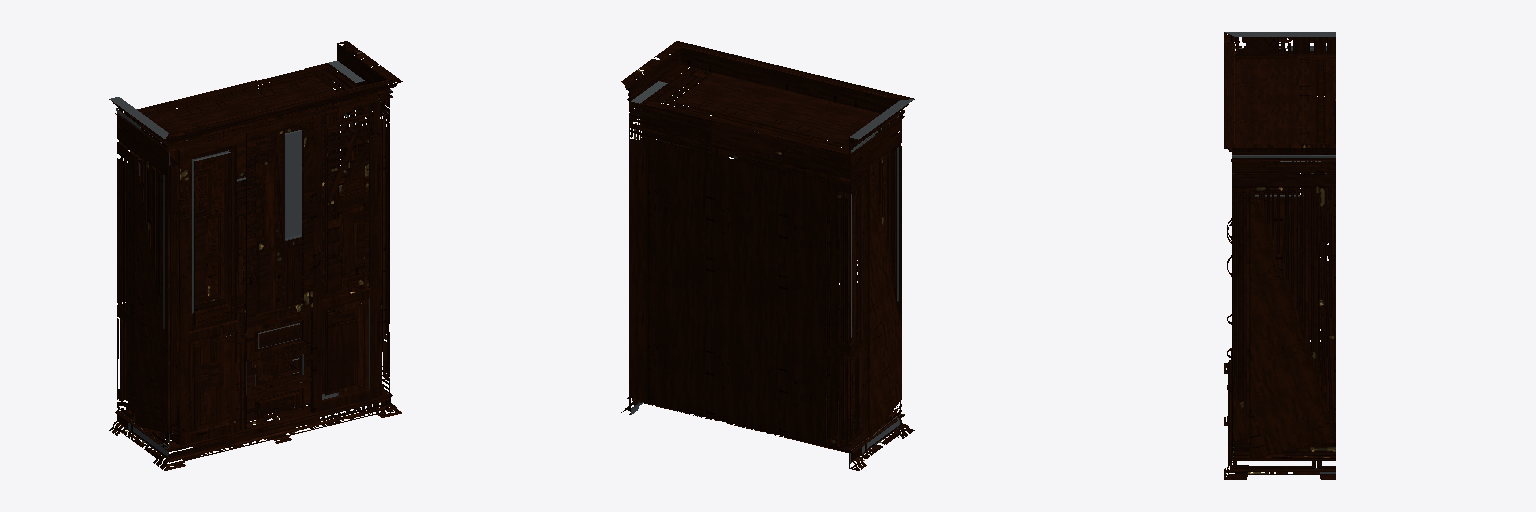
3 renders of one model, left to right at view 1: azimuth 30°, elevation 25°; view 2: azimuth 150°, elevation 25°; view 3: azimuth 270°, elevation 25°, orthographic.
Visible parts, largest first — view 1: solid_002, solid_003; view 2: solid_002; view 3: solid_002.
Boxes of the visible parts, x1=… form: solid_002: x1=109, y1=41, x2=402, y2=470; solid_003: x1=256, y1=130, x2=301, y2=313; solid_002: x1=621, y1=41, x2=914, y2=470; solid_002: x1=1224, y1=32, x2=1335, y2=479.
Size of the model in its own units: 1.09 by 1.45 by 0.4441.
Materials: 1 (1 with a texture image).